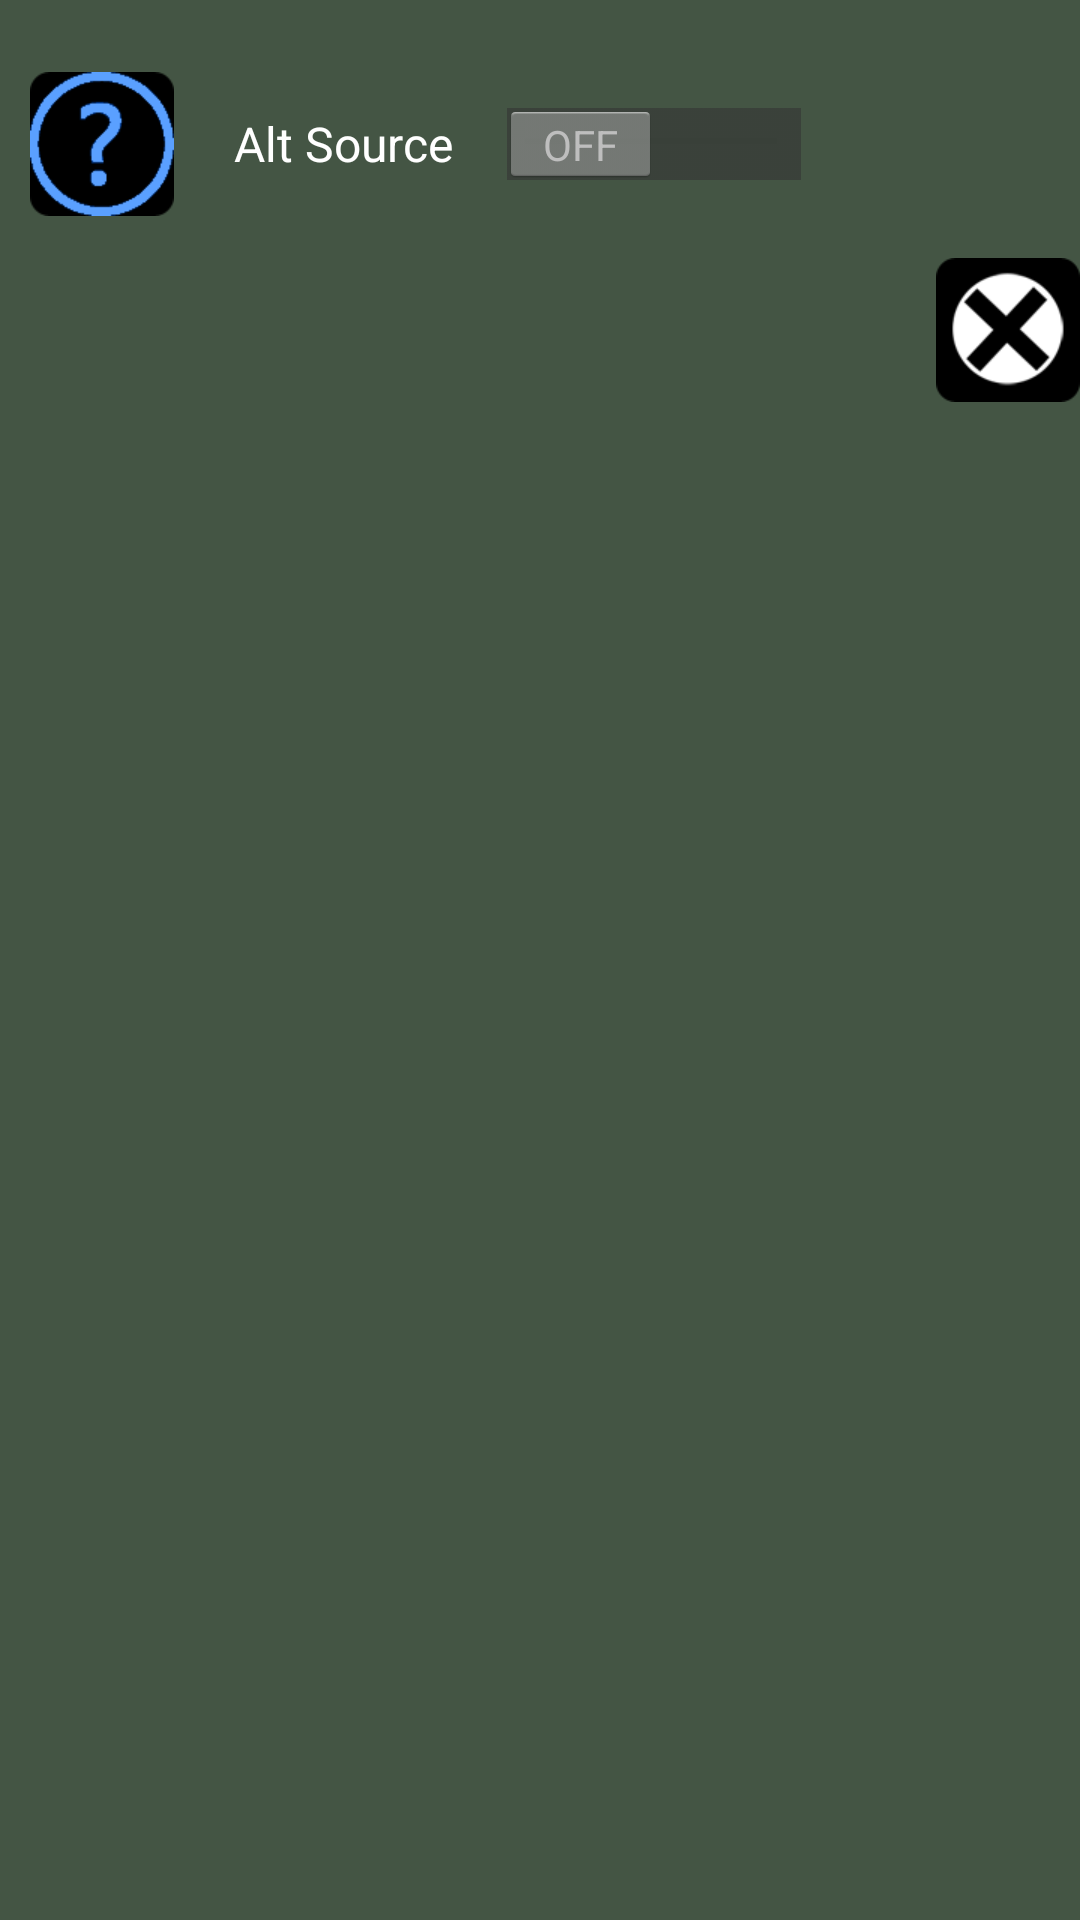

Icon click points for this 1080px×1920px phone screenshot, format (x=x, y=y):
exit: (x=1008, y=330)
help: (x=102, y=144)
